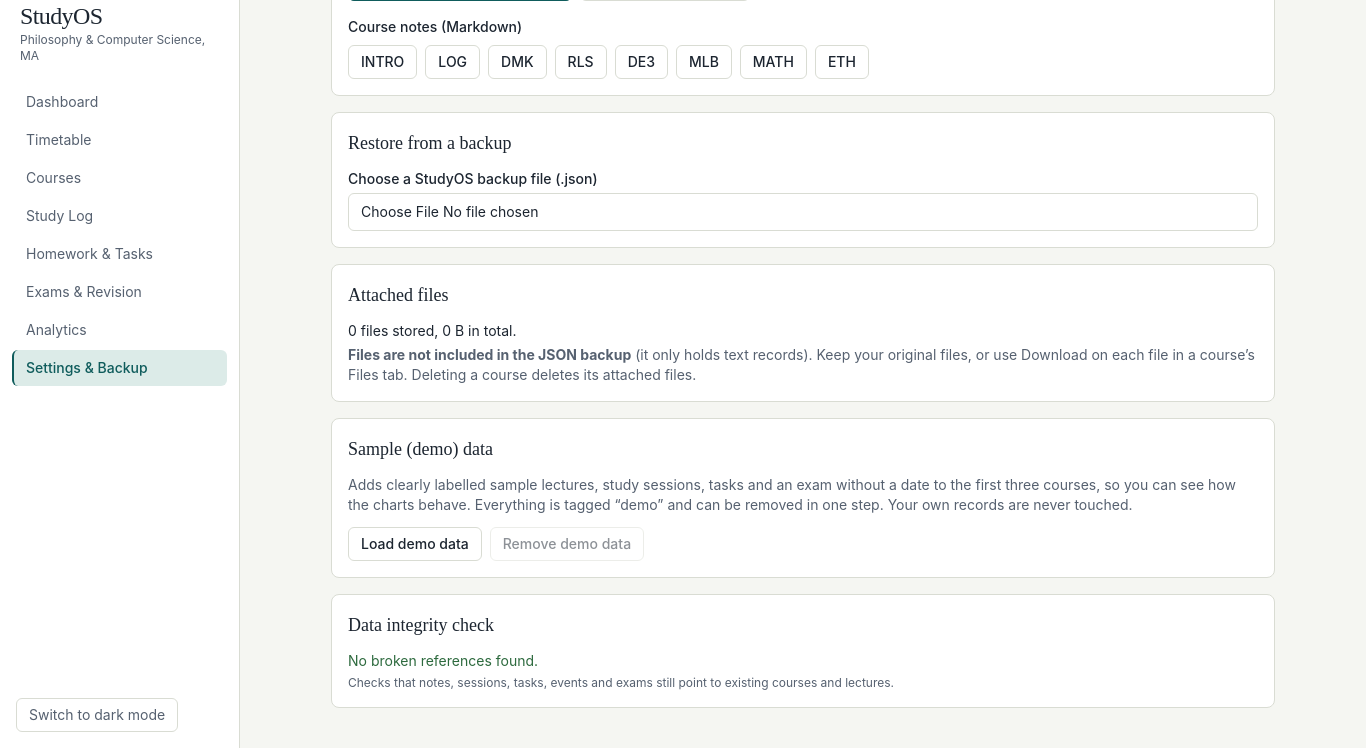
Test case: settings, backup and demo data › loads demo data into the dashboard, then removes it again
The image size is (1366, 748).
(page scrolled)
What coordinates should you click on to do the following:
click the button "Load demo data"
I would click on:
 (415, 544)
Its box is [348,527,482,561].
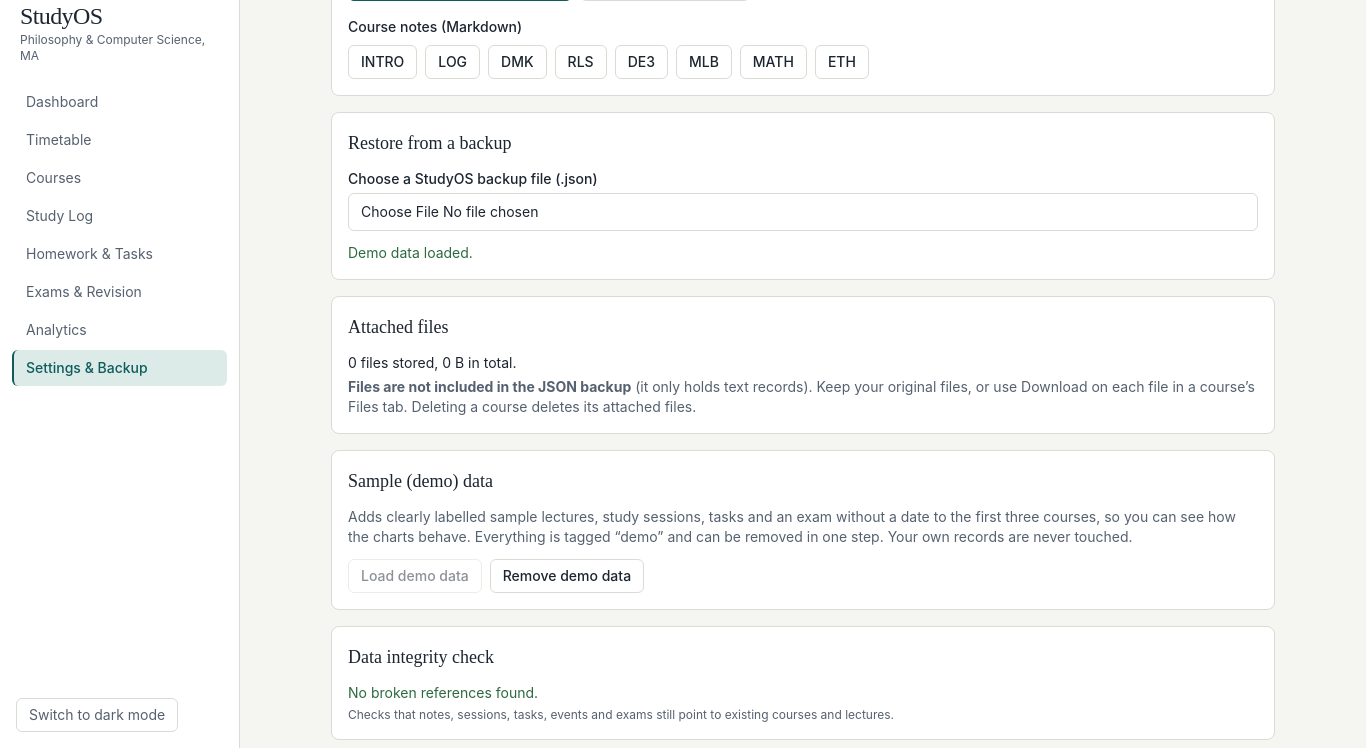
Now the text "Demo data loaded." is shown, box [348,244,473,261]
What coordinates should you click on to do the following:
click the button "Remove demo data"
I would click on:
 (567, 576)
Its box is [490,559,644,593].
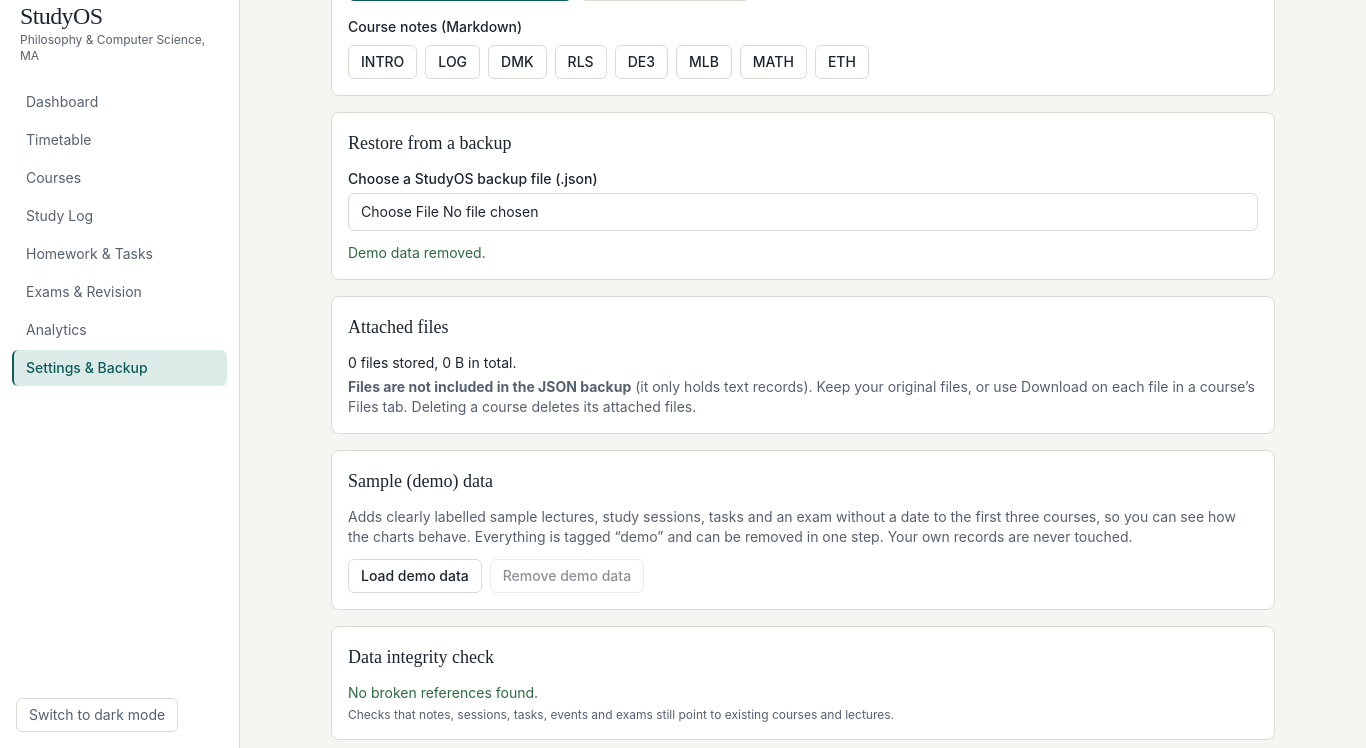
Now the text "Demo data removed." is shown, box [348,244,486,261]
Now the button "Load demo data" is enabled, box [348,559,482,593]
